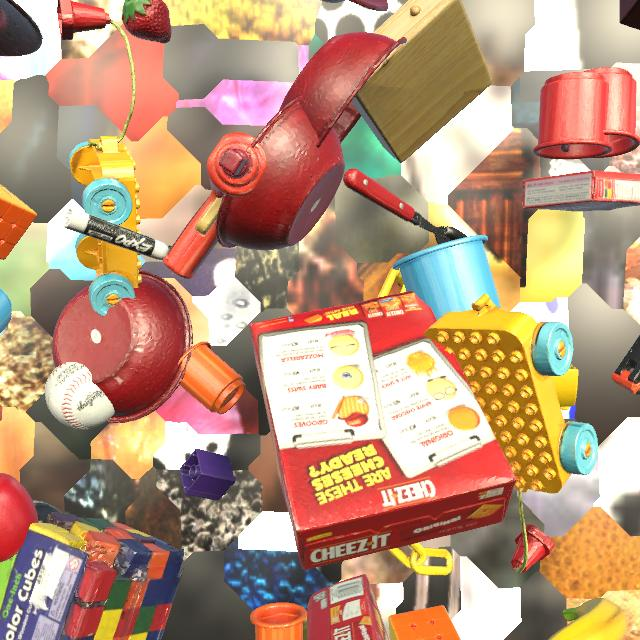ycb_003_cracker_box: (249, 291, 517, 570), (307, 574, 389, 640)
ycb_009_gelatin_box: (521, 171, 640, 212)
ycb_011_banana: (548, 598, 627, 640)
ycb_012_strawberry: (122, 0, 172, 43)
ycb_013_apple: (0, 473, 38, 562)
